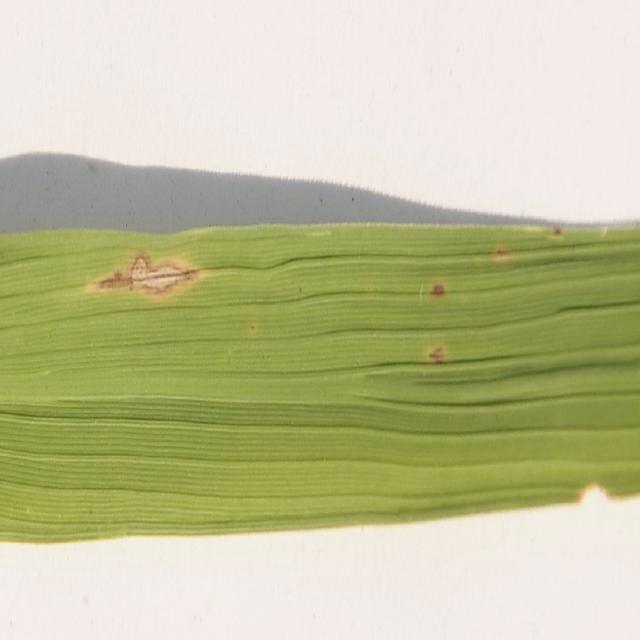Brownspot: (95, 254, 198, 294), (428, 346, 445, 364), (430, 282, 445, 296), (493, 246, 507, 261), (552, 226, 562, 235), (249, 323, 257, 334), (600, 226, 607, 237)
